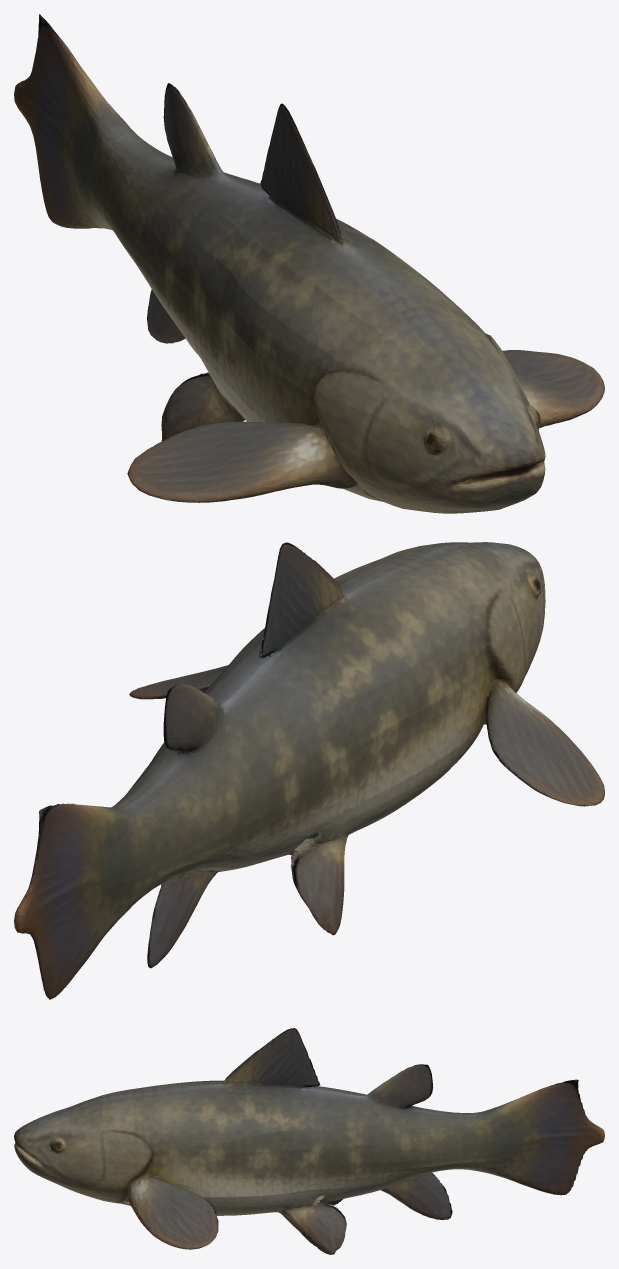
The picture shows the model from 3 angles, top to bottom: view 1: azimuth 30°, elevation 25°; view 2: azimuth 150°, elevation 25°; view 3: azimuth 270°, elevation 25°; orthographic projection. The views are drawn at different scales.
Visible parts, largest first — view 1: world; view 2: world; view 3: world.
Part boxes in pixels (x1=…): world: x1=14, y1=14, x2=604, y2=513; world: x1=14, y1=542, x2=604, y2=999; world: x1=14, y1=1028, x2=604, y2=1254.
Size of the model in its own units: 0.5299 by 0.3775 by 1.
1 material, 1 textured.
